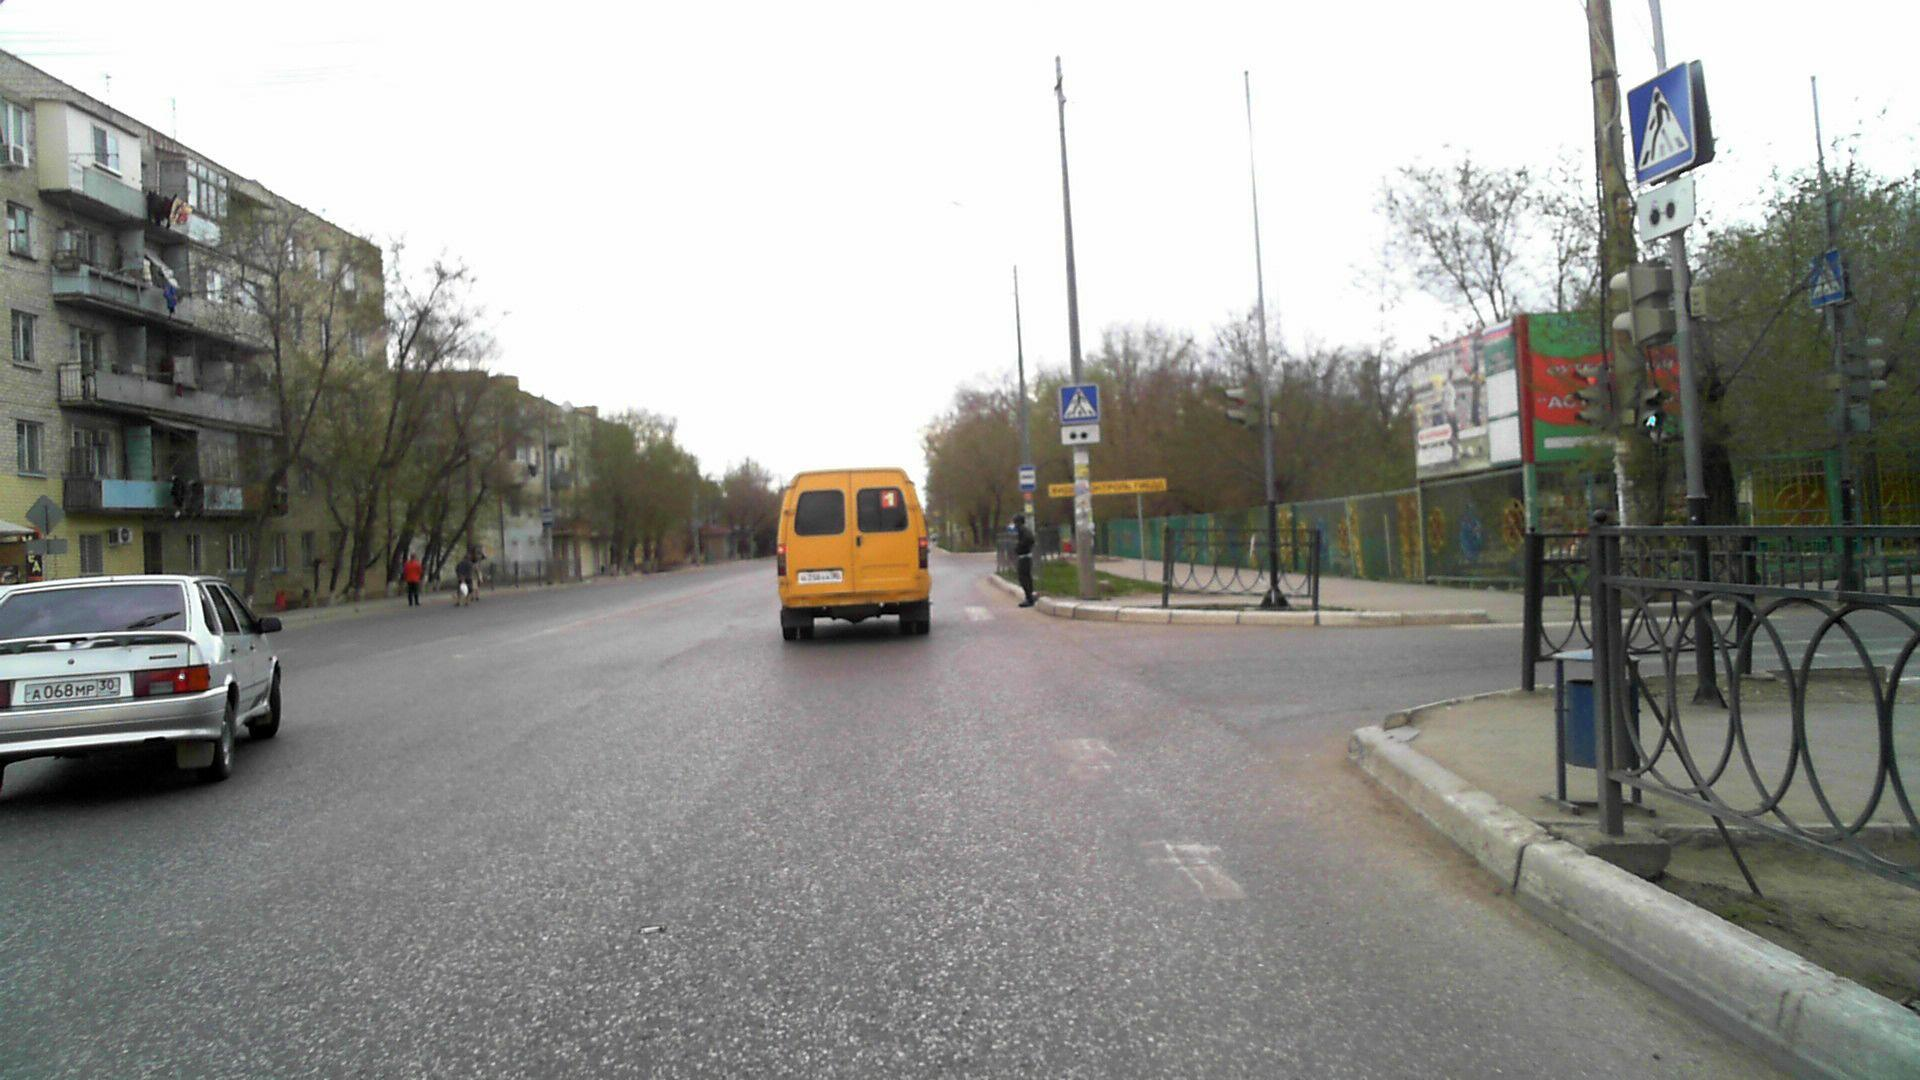5_16: (1019, 464, 1036, 491), (542, 508, 554, 527)
5_19_1: (1613, 70, 1709, 179), (1059, 386, 1101, 422)
5_19_2: (1804, 253, 1846, 305)
8_15: (1629, 186, 1698, 241), (1060, 423, 1104, 447)
